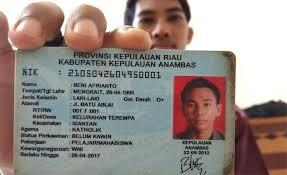ID-card: (16, 51, 232, 173)
